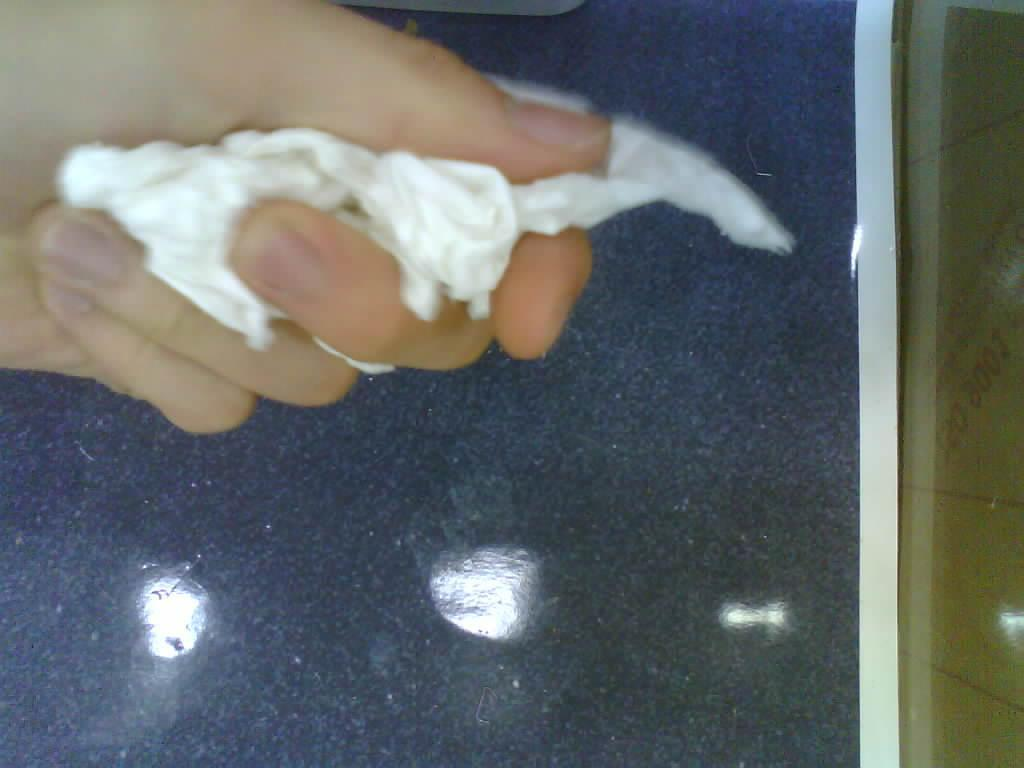paper: (56, 57, 794, 385)
